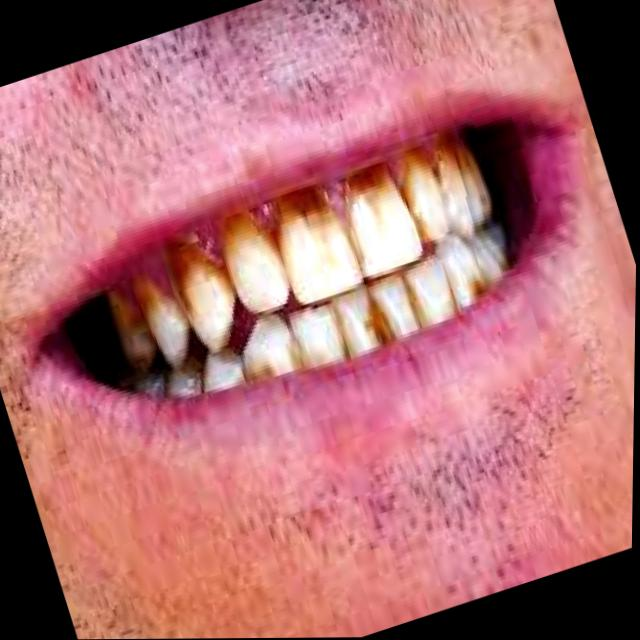tooth-discoloration: (174, 244, 235, 349), (435, 137, 481, 234)
